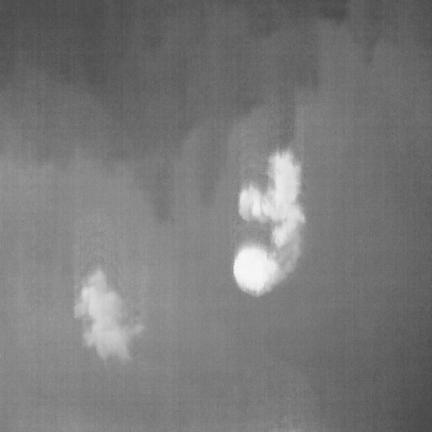flukeprints: (74, 254, 144, 360), (238, 152, 303, 246), (233, 244, 279, 295)
